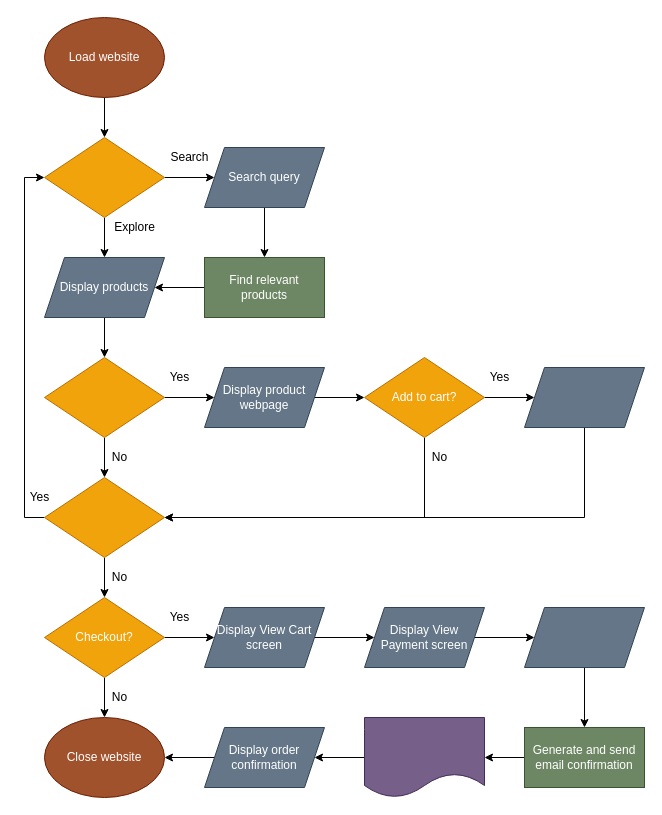
The diagram is 662 pixels wide and 815 high, and some of its shapes have lost their labels. Each missing label, with the centre of its shape:
Added to cart confirmation: the point at 584,397
Continue shopping?: the point at 104,517
Email confirmation: the point at 424,757
Payment information: the point at 584,637
Search or explore products: the point at 104,177
Select product?: the point at 104,397
